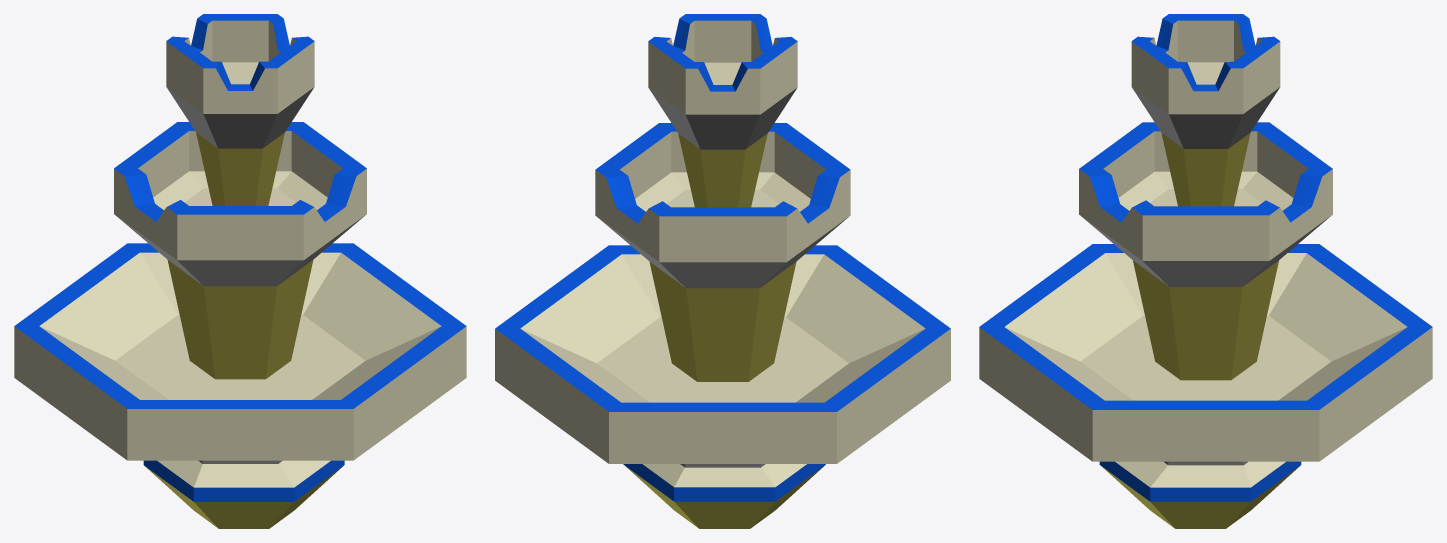
The model's file is Fontaine06.glb.
The picture shows the model from 3 angles, left to right: view 1: azimuth 30°, elevation 25°; view 2: azimuth 150°, elevation 25°; view 3: azimuth 270°, elevation 25°; orthographic projection.
Visible parts, largest first — view 1: Cylindre; view 2: Cylindre; view 3: Cylindre.
Boxes of the visible parts, left/top/right/bottom form: Cylindre: left=14, top=14, right=466, bottom=528; Cylindre: left=495, top=14, right=950, bottom=528; Cylindre: left=979, top=14, right=1432, bottom=528.
Size of the model in its own units: 3.9 by 5.13 by 4.5.
